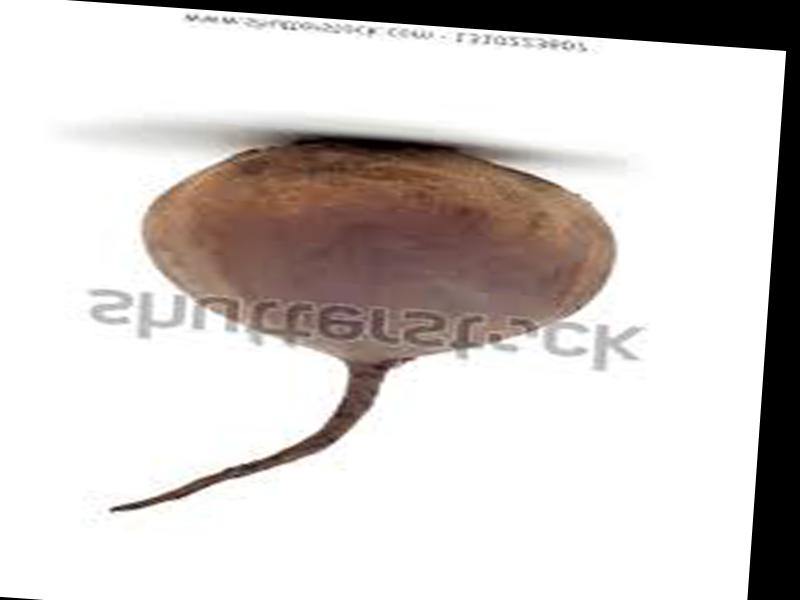Beet: (110, 122, 628, 547)
